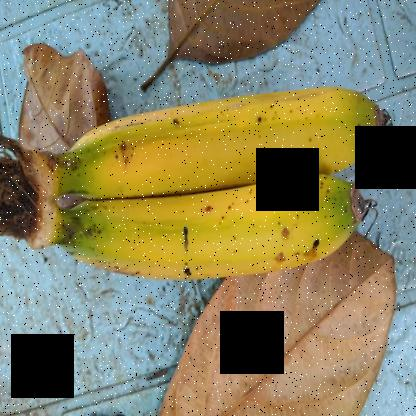ripe: (56, 179, 371, 314), (64, 84, 386, 193)
